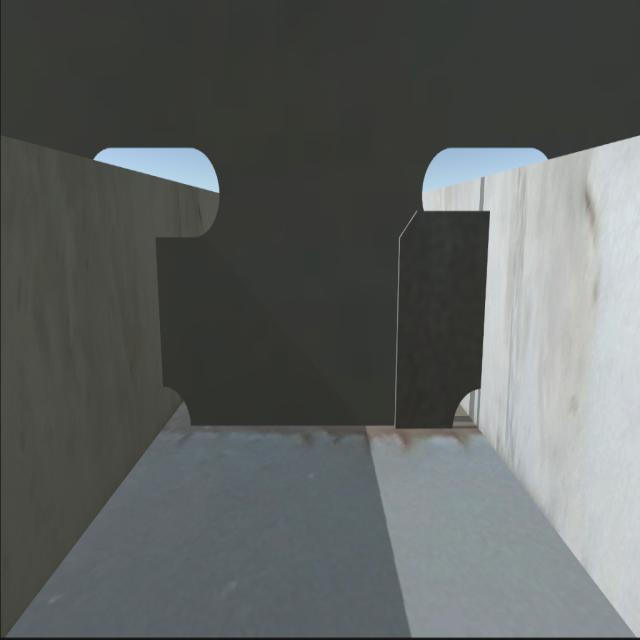fillet_hole: (160, 383, 196, 432), (450, 384, 482, 429)
fillet_yong_jeop_jang: (194, 427, 455, 436)
longi_yong_jeop_jang: (150, 240, 170, 392), (478, 213, 489, 387)
plate_CP03: (397, 205, 485, 428)
